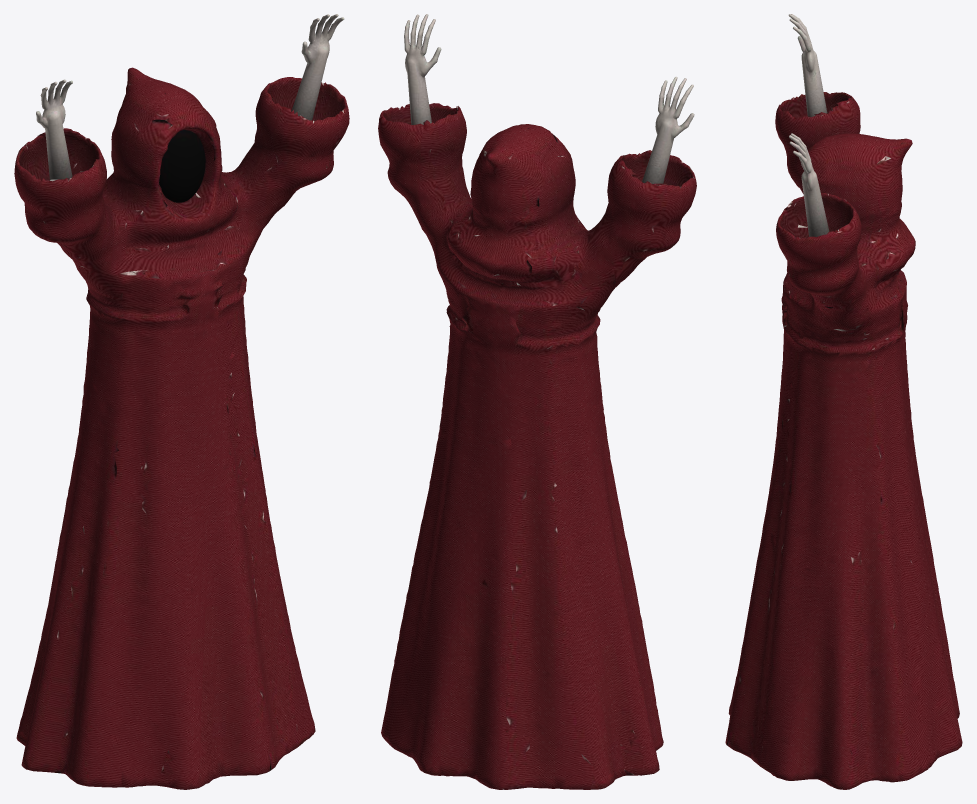
Rendered from cultist_crimson.glb.
The picture shows the model from 3 angles, left to right: view 1: azimuth 30°, elevation 25°; view 2: azimuth 150°, elevation 25°; view 3: azimuth 270°, elevation 25°; orthographic projection. The views are drawn at different scales.
Parts seen in each view (by area): view 1: Robe, Hands, Hood_Void; view 2: Robe, Hands; view 3: Robe, Hands.
Boxes of the visible parts, x1=… form: Robe: x1=14, y1=67, x2=349, y2=789; Hands: x1=36, y1=14, x2=344, y2=179; Hood_Void: x1=159, y1=130, x2=205, y2=202; Robe: x1=378, y1=103, x2=696, y2=789; Hands: x1=404, y1=14, x2=694, y2=183; Robe: x1=725, y1=92, x2=962, y2=789; Hands: x1=788, y1=14, x2=829, y2=236.
Bounding box in the file's own units: 0.9626 × 2.03 × 0.6669.
1 material, 1 textured.
